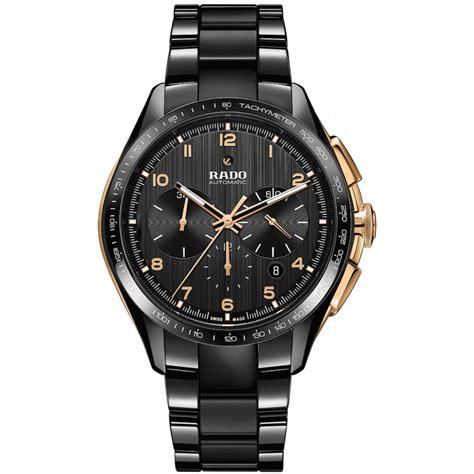Watch: (101, 3, 378, 473)
